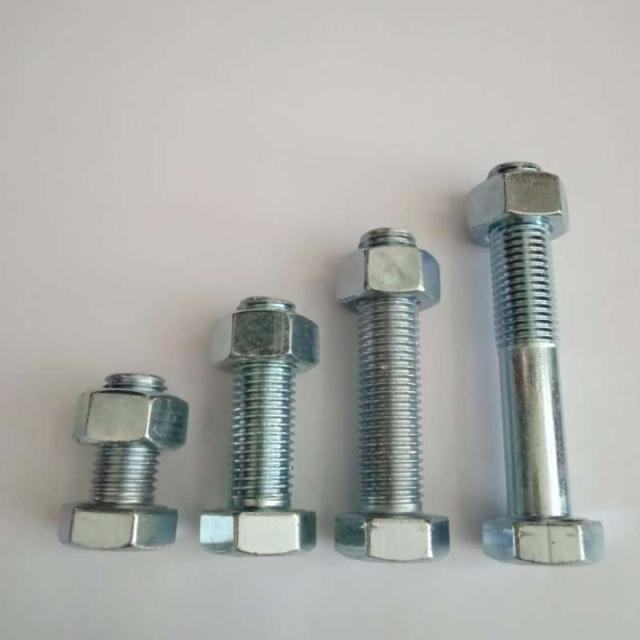Logam: (53, 121, 597, 606)
